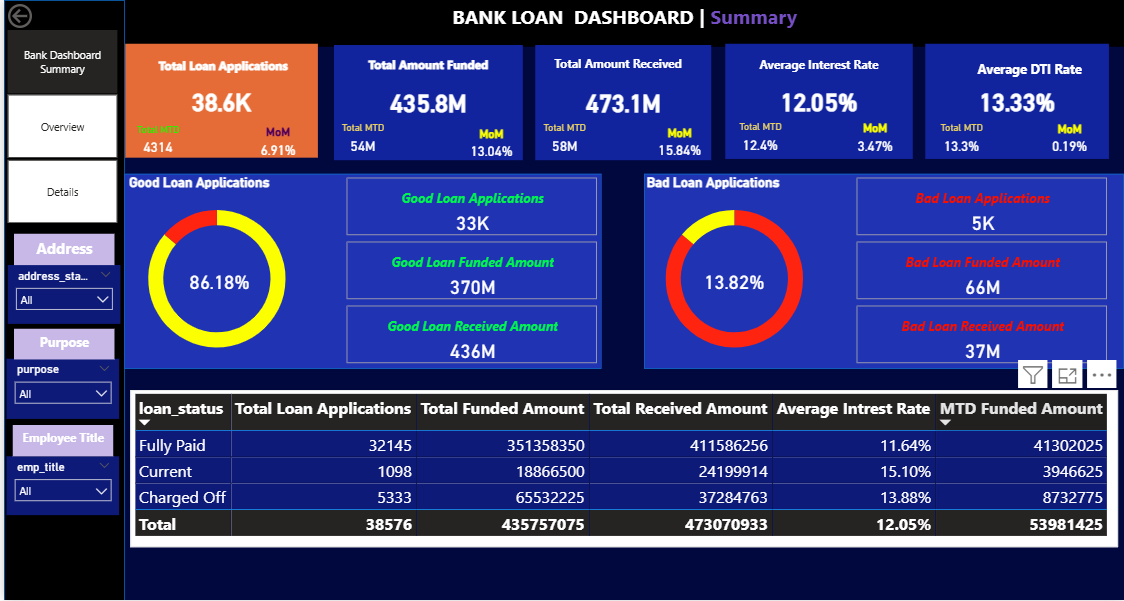

The dashboard page shown, as its layout file describes it:
{"tool":"powerbi","page":{"name":"Bank Dashboard Summary","canvas":[1400,750],"ordinal":0},"visuals":[{"type":"textbox","box":[151.2,0,1249,58.7],"z":0},{"type":"shape","box":[0,0,151.2,1000],"z":1000},{"type":"card","fields":{"Values":["financial_loan_full.Total Loan Applications"]},"box":[151.6,54.7,240.6,142.2],"z":2000},{"type":"textbox","box":[166.5,67.6,213.5,36.2],"z":3000},{"type":"card","title":"Total MTD ","fields":{"Values":["financial_loan_full.MTD Loan Applictions"]},"box":[150.8,154.4,82,47.1],"z":4000},{"type":"card","title":"MoM","fields":{"Values":["financial_loan_full.MOM Loan Applications"]},"box":[294.4,155.6,97.7,47.1],"z":5000},{"type":"card","fields":{"Values":["financial_loan_full.Total Funded Amount"]},"box":[412.5,56.2,235.9,143.8],"z":6000},{"type":"textbox","box":[423.4,65.6,214.1,40.6],"z":7000},{"type":"card","title":"Total MTD ","fields":{"Values":["financial_loan_full.MTD Funded Amount"]},"box":[410.9,153.1,75,46.9],"z":8000},{"type":"card","title":"MoM","fields":{"Values":["financial_loan_full.MOM Funded Amount"]},"box":[570.3,159.4,78.1,43.8],"z":9000},{"type":"card","fields":{"Values":["financial_loan_full.Total Received Amount"]},"box":[664.1,56.2,220.3,143.8],"z":10000},{"type":"textbox","box":[682.8,64.1,184.4,40.6],"z":11000},{"type":"card","title":"Total MTD ","fields":{"Values":["financial_loan_full.MTD Received Amount"]},"box":[664.1,153.1,73.4,46.9],"z":12000},{"type":"card","title":"MoM","fields":{"Values":["financial_loan_full.MOM Received Amount"]},"box":[804.7,157.8,79.7,43.8],"z":13000},{"type":"card","fields":{"Values":["financial_loan_full.Average Intrest Rate"]},"box":[901.6,54.7,234.4,143.8],"z":14000},{"type":"textbox","box":[923.4,65.6,190.6,40.6],"z":15000},{"type":"card","title":"Total MTD ","fields":{"Values":["financial_loan_full.MTD Average Interest Rate"]},"box":[901.6,151.6,87.5,48.4],"z":16000},{"type":"card","title":"MoM","fields":{"Values":["financial_loan_full.MOM Average Interest Rate"]},"box":[1042.2,151.6,93.8,48.4],"z":17000},{"type":"card","fields":{"Values":["financial_loan_full.Average DTI"]},"box":[1151.6,54.7,229.7,143.8],"z":18000},{"type":"textbox","box":[1182.8,70.3,198.4,34.4],"z":19000},{"type":"card","title":"Total MTD ","fields":{"Values":["financial_loan_full.MTD Average DTI"]},"box":[1151.6,153.1,90.6,46.9],"z":20000},{"type":"card","title":"MoM","fields":{"Values":["financial_loan_full.MOM Average DTI Rate"]},"box":[1282.8,153.1,98.4,43.8],"z":21000},{"type":"shape","box":[149.9,216.4,597.1,243.8],"z":22000},{"type":"shape","box":[800.5,216.4,599.7,243.8],"z":23000},{"type":"donutChart","title":"Good Loan Applications","fields":{"Category":["financial_loan_full.Good Loan Vs Bad Loan"],"Y":["financial_loan_full.Total Loan Applications"]},"box":[151.2,216.4,229.5,243.8],"z":24000},{"type":"card","fields":{"Values":["financial_loan_full.Good Loan %"]},"box":[226.9,332.5,86,39.1],"z":25000},{"type":"card","fields":{"Values":["financial_loan_full.Bad Loan %"]},"box":[856.6,323.3,113.4,57.4],"z":26000},{"type":"donutChart","title":"Bad Loan Applications","fields":{"Category":["financial_loan_full.Good Loan Vs Bad Loan"],"Y":["financial_loan_full.Total Loan Applications"]},"box":[799.2,216.4,229.5,243.8],"z":27000},{"type":"cardVisual","fields":{"Data":["financial_loan_full.Good Loan Applications","financial_loan_full.Good Loan Funded Amount","financial_loan_full.Good Loan Received Amount"]},"box":[423.7,216.4,323.3,243.8],"z":28000},{"type":"cardVisual","fields":{"Data":["financial_loan_full.Bad Loan Applications","financial_loan_full.Bad Loan Funded Amount","financial_loan_full.Bad Loan Received Amount"]},"box":[1061.3,216.4,323.3,243.8],"z":29000},{"type":"tableEx","fields":{"Values":["financial_loan_full.loan_status","financial_loan_full.Total Loan Applications","financial_loan_full.Total Funded Amount","financial_loan_full.Total Received Amount","financial_loan_full.Average Intrest Rate","financial_loan_full.MTD Funded Amount"]},"box":[157.8,487.5,1234.4,196.9],"z":30000},{"type":"slicer","fields":{"Values":["financial_loan_full.address_state"]},"box":[5.1,331.9,141.2,73.8],"z":31000},{"type":"textbox","box":[12.7,292.5,125.9,39.4],"z":32000},{"type":"slicer","fields":{"Values":["financial_loan_full.purpose"]},"box":[3.8,448.9,141.2,75],"z":33000},{"type":"actionButton","box":[0,0,100,40],"z":34000},{"type":"textbox","box":[12.7,410.8,125.9,38.2],"z":35000},{"type":"slicer","fields":{"Values":["financial_loan_full.emp_title"]},"box":[3.8,571,141.2,73.8],"z":36000},{"type":"textbox","box":[11.4,531.6,125.9,39.4],"z":37000},{"type":"pageNavigator","box":[5.1,38.2,137.4,242.9],"z":38000}]}

Visuals, with their boxes on the page's 1400x750 design canvas (x1, y1, x2, y2). These are canvas units, not pixel positions in the 1124x601 screenshot, which may show the page scaled, cropped or inside an application window:
textbox: bbox=(151, 0, 1400, 59)
shape: bbox=(0, 0, 151, 1000)
card - financial_loan_full.Total Loan Applications: bbox=(152, 55, 392, 197)
textbox: bbox=(166, 68, 380, 104)
"Total MTD " card: bbox=(151, 154, 233, 202)
"MoM" card: bbox=(294, 156, 392, 203)
card - financial_loan_full.Total Funded Amount: bbox=(412, 56, 648, 200)
textbox: bbox=(423, 66, 638, 106)
"Total MTD " card: bbox=(411, 153, 486, 200)
"MoM" card: bbox=(570, 159, 648, 203)
card - financial_loan_full.Total Received Amount: bbox=(664, 56, 884, 200)
textbox: bbox=(683, 64, 867, 105)
"Total MTD " card: bbox=(664, 153, 738, 200)
"MoM" card: bbox=(805, 158, 884, 202)
card - financial_loan_full.Average Intrest Rate: bbox=(902, 55, 1136, 198)
textbox: bbox=(923, 66, 1114, 106)
"Total MTD " card: bbox=(902, 152, 989, 200)
"MoM" card: bbox=(1042, 152, 1136, 200)
card - financial_loan_full.Average DTI: bbox=(1152, 55, 1381, 198)
textbox: bbox=(1183, 70, 1381, 105)
"Total MTD " card: bbox=(1152, 153, 1242, 200)
"MoM" card: bbox=(1283, 153, 1381, 197)
shape: bbox=(150, 216, 747, 460)
shape: bbox=(800, 216, 1400, 460)
"Good Loan Applications" donutChart: bbox=(151, 216, 381, 460)
card - financial_loan_full.Good Loan %: bbox=(227, 332, 313, 372)
card - financial_loan_full.Bad Loan %: bbox=(857, 323, 970, 381)
"Bad Loan Applications" donutChart: bbox=(799, 216, 1029, 460)
cardVisual - financial_loan_full.Good Loan Applications x financial_loan_full.Good Loan Funded Amount: bbox=(424, 216, 747, 460)
cardVisual - financial_loan_full.Bad Loan Applications x financial_loan_full.Bad Loan Funded Amount: bbox=(1061, 216, 1385, 460)
tableEx - financial_loan_full.loan_status x financial_loan_full.Total Loan Applications: bbox=(158, 488, 1392, 684)
slicer - financial_loan_full.address_state: bbox=(5, 332, 146, 406)
textbox: bbox=(13, 292, 139, 332)
slicer - financial_loan_full.purpose: bbox=(4, 449, 145, 524)
actionButton: bbox=(0, 0, 100, 40)
textbox: bbox=(13, 411, 139, 449)
slicer - financial_loan_full.emp_title: bbox=(4, 571, 145, 645)
textbox: bbox=(11, 532, 137, 571)
pageNavigator: bbox=(5, 38, 142, 281)
